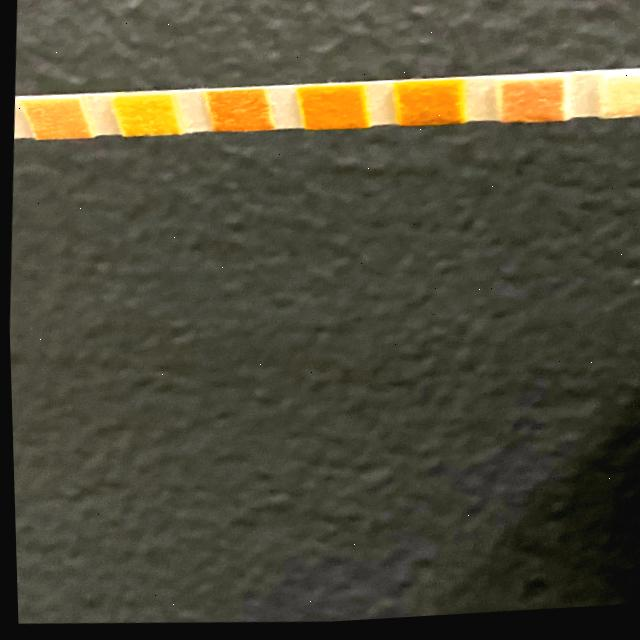Bilirubin: (602, 79, 640, 122)
Blood: (302, 89, 361, 135)
Ketone: (500, 83, 560, 129)
Protein: (122, 94, 169, 138)
SpGravity: (397, 84, 457, 130)
Urobilinogen: (34, 98, 75, 140)
pH: (210, 92, 260, 136)
